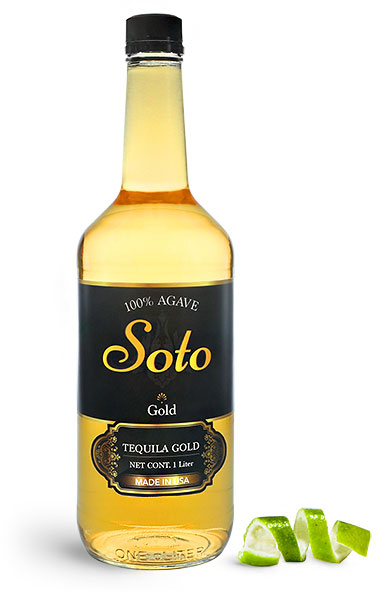bottle: (75, 11, 237, 573)
